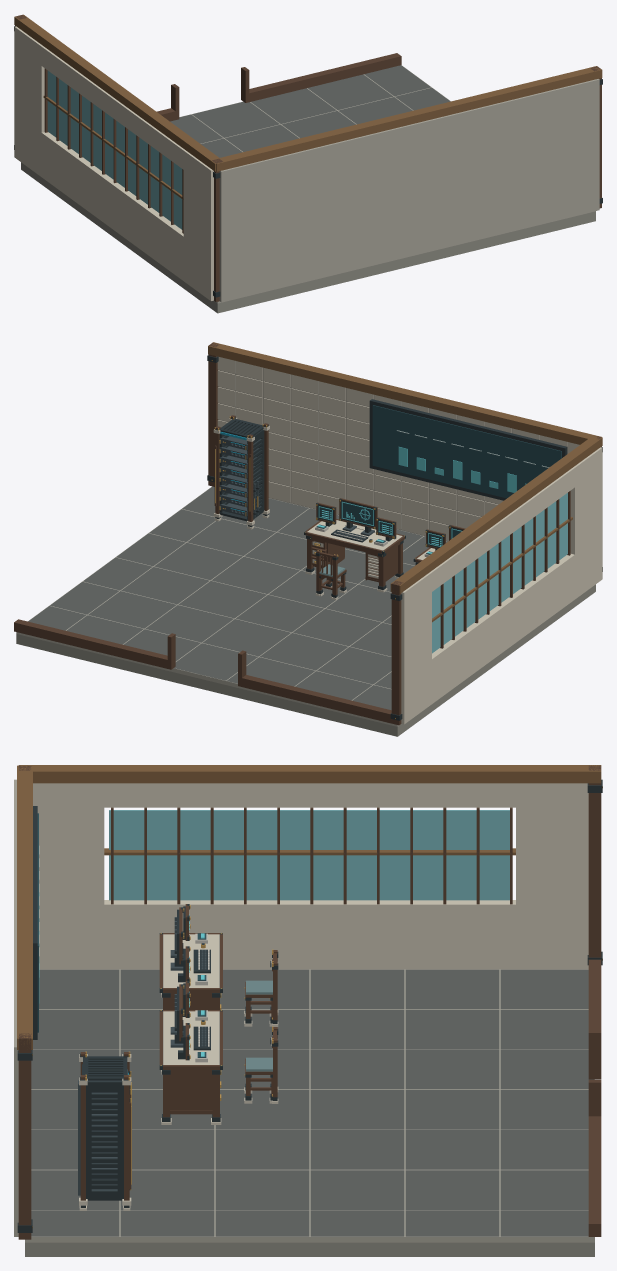
The picture shows the model from 3 angles, top to bottom: view 1: azimuth 30°, elevation 25°; view 2: azimuth 150°, elevation 25°; view 3: azimuth 270°, elevation 25°; orthographic projection. The views are drawn at different scales.
Visible parts, largest first — view 1: 真实窗洞、木梁与切角房间墙, 分层实心台基与独立石铺面; view 2: 真实窗洞、木梁与切角房间墙, 分层实心台基与独立石铺面, 静态调度示意屏与真实壁挂座, 能源调度控制台 · 公共空间用途修正 (×2), 数据/通信机柜 · 公共空间用途修正, 餐椅; view 3: 分层实心台基与独立石铺面, 真实窗洞、木梁与切角房间墙, 能源调度控制台 · 公共空间用途修正 (×2), 数据/通信机柜 · 公共空间用途修正, 餐椅 (×2), 静态调度示意屏与真实壁挂座.
Part boxes in pixels (bbox=[...]): 真实窗洞、木梁与切角房间墙: bbox=[14, 14, 602, 302]; 分层实心台基与独立石铺面: bbox=[21, 65, 595, 313]; 真实窗洞、木梁与切角房间墙: bbox=[14, 342, 602, 725]; 分层实心台基与独立石铺面: bbox=[16, 486, 595, 736]; 静态调度示意屏与真实壁挂座: bbox=[369, 399, 567, 500]; 能源调度控制台 · 公共空间用途修正 (×2): bbox=[304, 498, 465, 592]; 数据/通信机柜 · 公共空间用途修正: bbox=[213, 415, 269, 529]; 餐椅: bbox=[315, 550, 346, 600]; 分层实心台基与独立石铺面: bbox=[25, 969, 594, 1256]; 真实窗洞、木梁与切角房间墙: bbox=[14, 765, 602, 1239]; 能源调度控制台 · 公共空间用途修正 (×2): bbox=[159, 904, 222, 1124]; 数据/通信机柜 · 公共空间用途修正: bbox=[78, 1051, 131, 1210]; 餐椅 (×2): bbox=[244, 949, 278, 1103]; 静态调度示意屏与真实壁挂座: bbox=[33, 806, 39, 1039].
Size of the model in its own units: 8.24 by 3.08 by 7.44.
19 materials, 19 textured.
